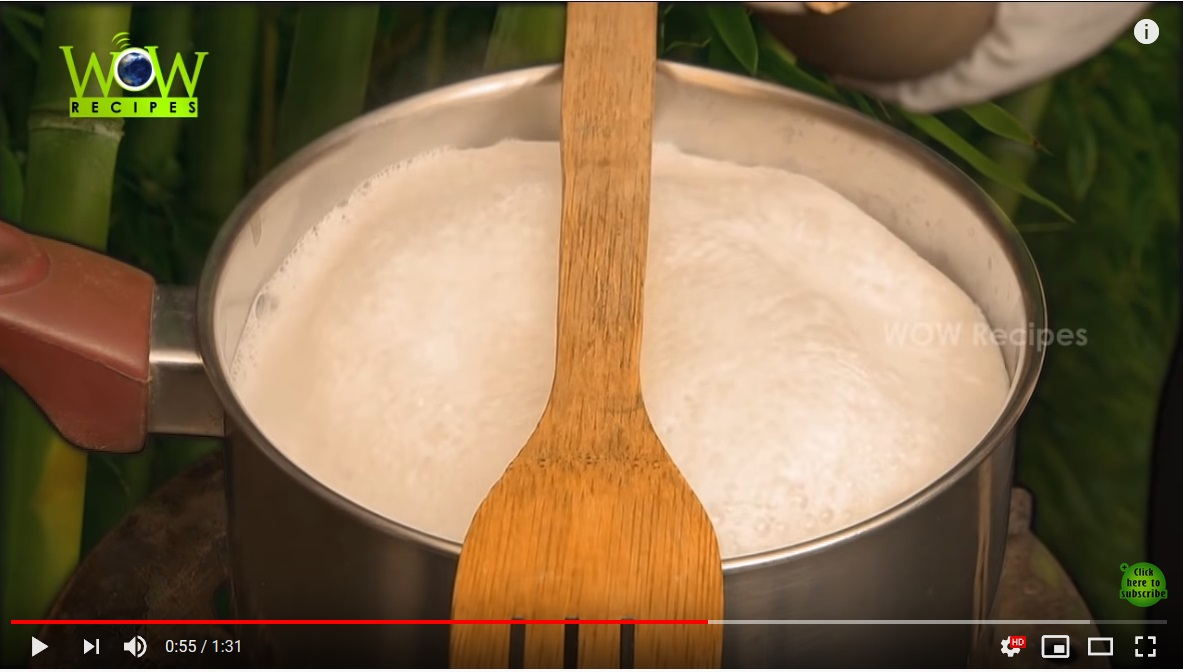Steaming: (190, 49, 1055, 574)
